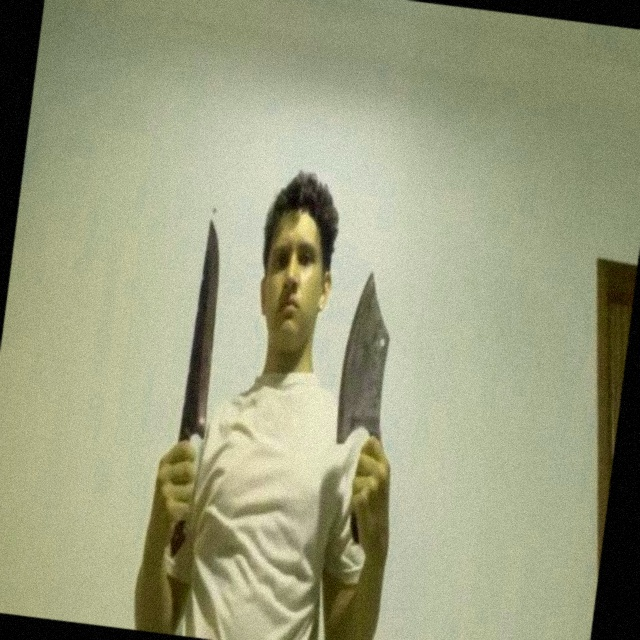Sharp-Object: (180, 219, 234, 437), (333, 270, 398, 449)
